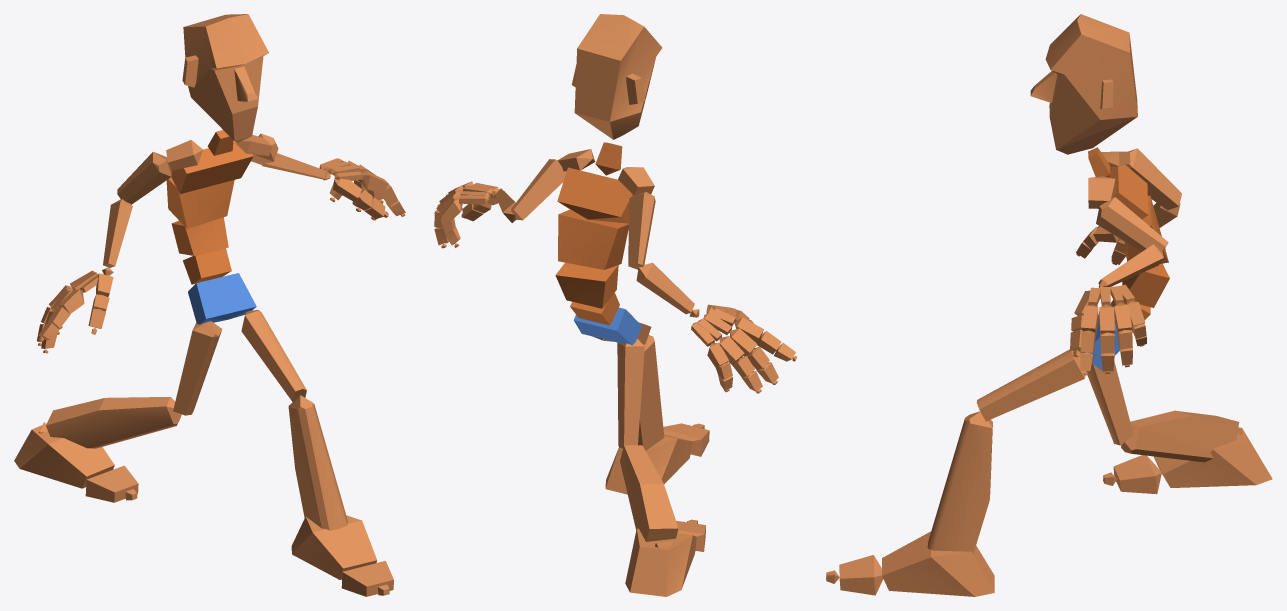
The picture shows the model from 3 angles, left to right: view 1: azimuth 30°, elevation 25°; view 2: azimuth 150°, elevation 25°; view 3: azimuth 270°, elevation 25°; orthographic projection. The views are drawn at different scales.
Parts seen in each view (by area): view 1: BOPED_Head, BOPED_R_leg, BOPED_L_leg, BOPED_R_foot, BOPED_R_foot01, Bone01, BOPED_R_legup, BOPED_L_legup, Bone04, Bone05, Bone03, BOPED_R_arm_upper (+7 smaller); view 2: BOPED_Head, BOPED_R_leg, BOPED_R_foot, Bone04, Bone05, BOPED_R_legup, Bone03, BOPED_L_leg, BOPED_R_foot01, BOPED_R_arm_upper, BOPED_L_arm_upper, Bone01 (+7 smaller); view 3: BOPED_Head, BOPED_L_leg, BOPED_R_foot01, BOPED_R_leg, BOPED_R_foot, BOPED_L_legup, BOPED_R_legup, BOPED_L_arm_upper, BOPED_R_arm_upper, BOPED_R_foot_toe01, BOPED_R_foot_toe04, Bone05 (+4 smaller).
Boxes of the visible parts, x1,y1,x2,y2 form: BOPED_Head: (182,14,268,142); BOPED_R_leg: (46,397,181,448); BOPED_L_leg: (288,395,348,530); BOPED_R_foot: (14,423,114,488); BOPED_R_foot01: (291,515,377,579); Bone01: (188,273,256,324); BOPED_R_legup: (173,321,222,415); BOPED_L_legup: (241,309,306,402); Bone04: (166,177,234,228); Bone05: (171,141,253,193); Bone03: (171,217,228,255); BOPED_R_arm_upper: (117,151,171,204); BOPED_Head: (571,14,662,139); BOPED_R_leg: (620,445,678,541); BOPED_R_foot: (625,528,696,596); Bone04: (558,209,628,269); Bone05: (557,167,634,223); BOPED_R_legup: (617,338,644,448); Bone03: (555,262,618,308); BOPED_L_leg: (619,335,664,450); BOPED_R_foot01: (605,434,692,494); BOPED_R_arm_upper: (628,192,655,269); BOPED_L_arm_upper: (511,159,566,220); Bone01: (573,307,642,345); BOPED_Head: (1030,14,1137,154); BOPED_L_leg: (927,411,992,553); BOPED_R_foot01: (882,531,994,596); BOPED_R_leg: (1121,410,1239,462); BOPED_R_foot: (1153,427,1272,487); BOPED_L_legup: (976,349,1086,421); BOPED_R_legup: (1080,351,1133,445); BOPED_L_arm_upper: (1096,197,1168,251); BOPED_R_arm_upper: (1125,148,1181,210); BOPED_R_foot_toe01: (1113,455,1161,494); BOPED_R_foot_toe04: (839,555,883,595); Bone05: (1109,165,1148,219).
Size of the model in its own units: 130 by 175 by 131.
